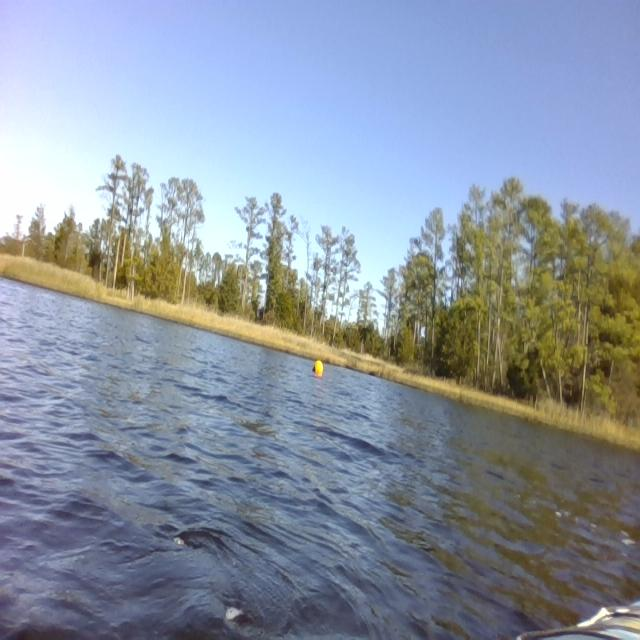Buoy: (310, 356, 325, 379)
